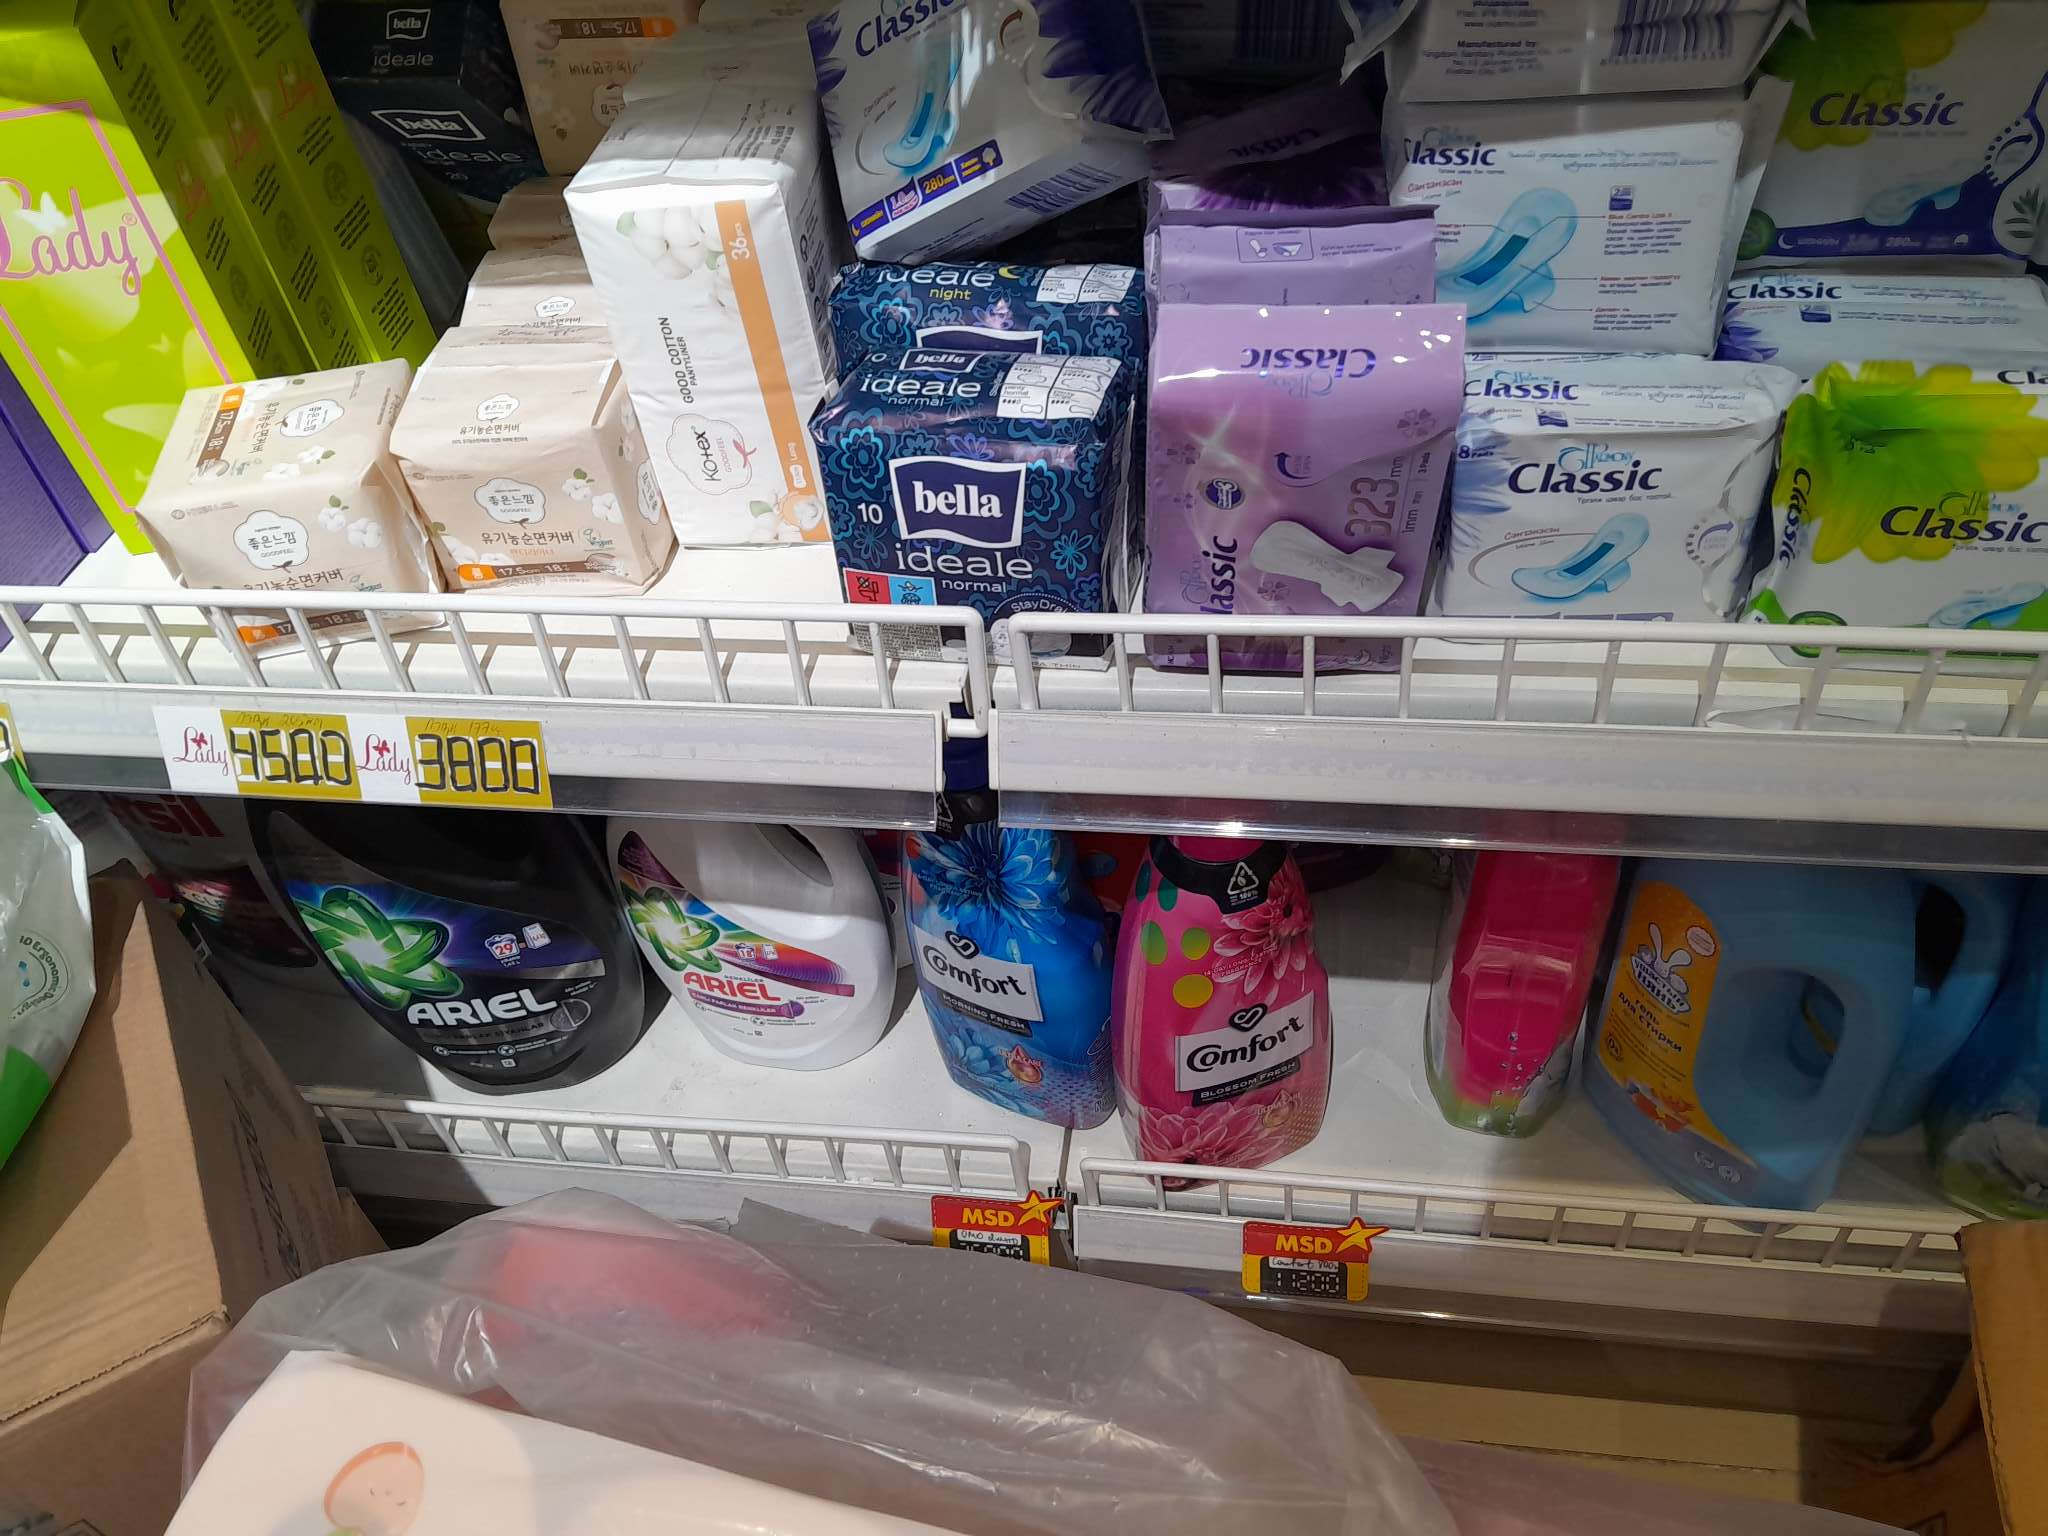ariel: (256, 802, 610, 1086), (632, 837, 895, 1071)
bella: (805, 357, 1093, 626)
classic: (1448, 355, 1737, 652), (1164, 310, 1414, 645), (1392, 115, 1716, 318), (1793, 373, 2048, 623), (793, 13, 1114, 207), (1782, 23, 2042, 252), (1709, 257, 2024, 358)
comfort: (1103, 837, 1326, 1179), (913, 828, 1092, 1118)
kotex: (568, 186, 816, 547), (393, 352, 640, 592), (148, 382, 395, 623)
nurse with ears: (1595, 839, 1798, 1184)
